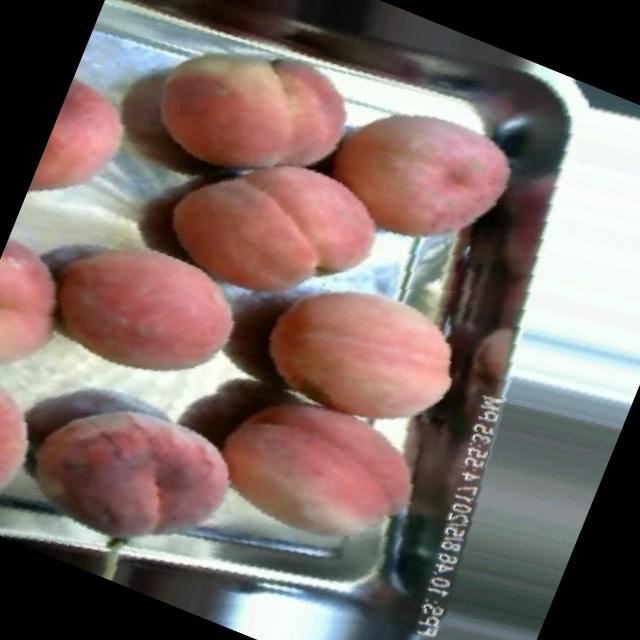Fruit: (0, 340, 272, 595), (141, 99, 413, 335), (2, 196, 271, 432), (118, 0, 382, 232), (180, 364, 442, 586), (298, 57, 548, 287), (232, 236, 493, 455), (0, 217, 113, 428), (21, 58, 153, 236), (0, 342, 80, 543)
